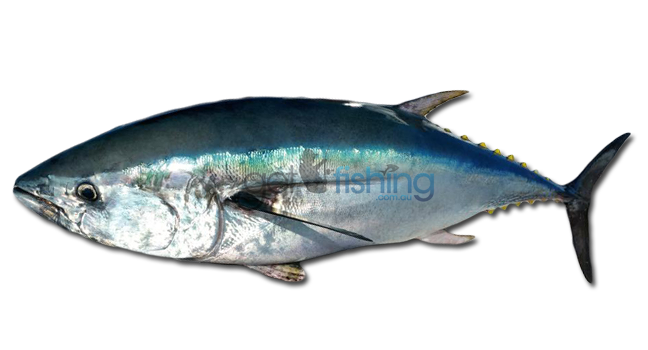Bluefina Tuna: (9, 63, 644, 306)
